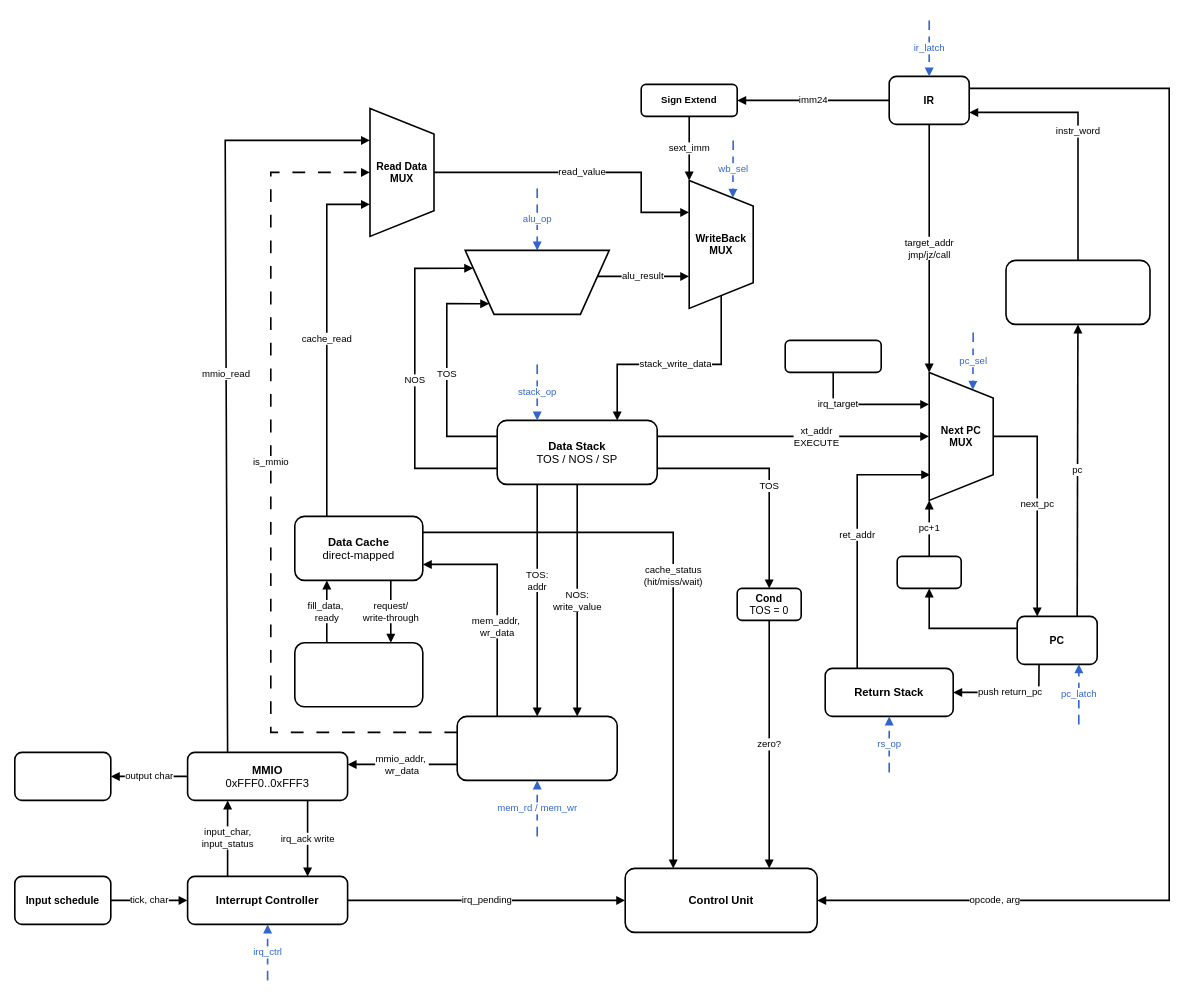
Some shapes in this 1190 by 1001 pixel diagram are drawn without their labels. The centre of each missing label's shape, as x and y in pixels:
"Address Decoder regular / MMIO" goes at pixel 537 748.
"ALU" goes at pixel 537 282.
"Const irq_vector_addr = 1" goes at pixel 833 356.
"Data Memory data.bin" goes at pixel 358 674.
"Output" goes at pixel 62 776.
"pc + 1" goes at pixel 929 572.
"Program Memory program.bin" goes at pixel 1077 292.
